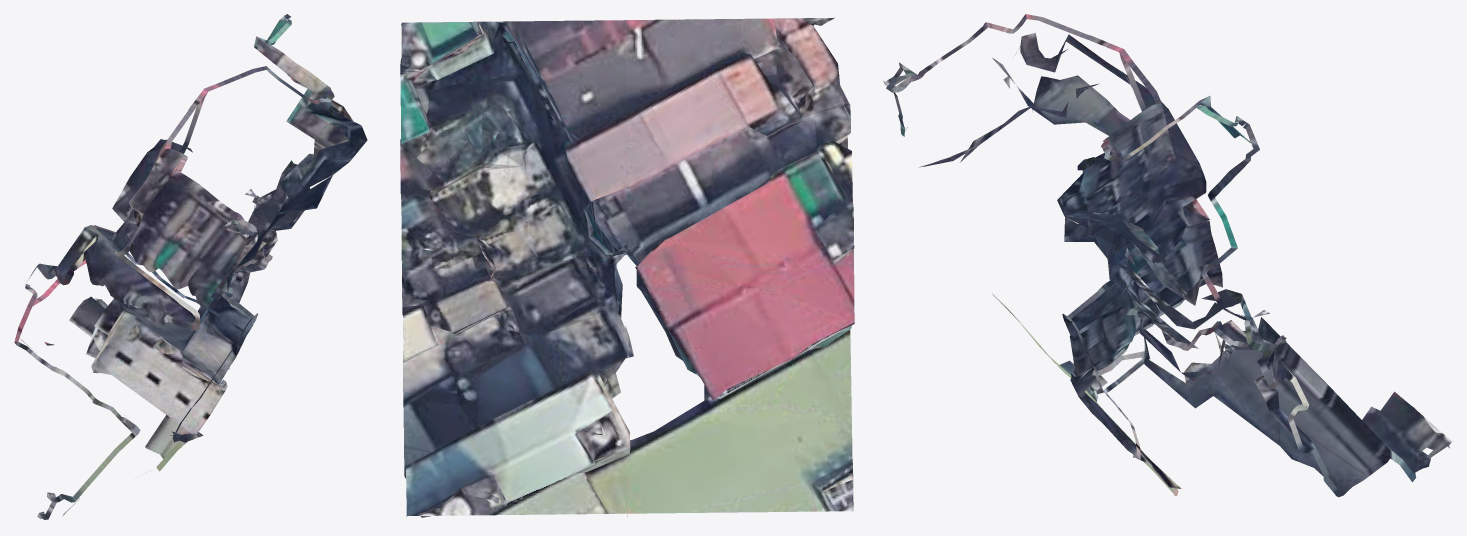
The picture shows the model from 3 angles, left to right: view 1: azimuth 30°, elevation 25°; view 2: azimuth 150°, elevation 25°; view 3: azimuth 270°, elevation 25°; orthographic projection. The views are drawn at different scales.
Size of the model in its own units: 37.91 by 40.44 by 44.85.
2 materials, 2 textured.
